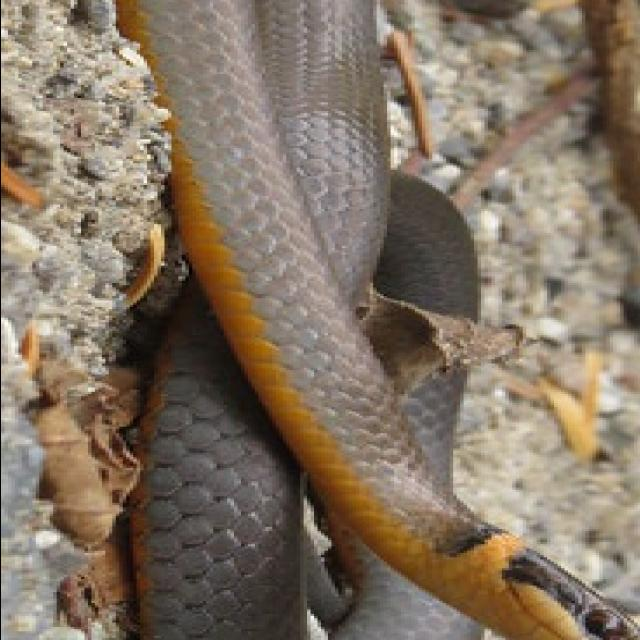snake: (94, 0, 640, 640)
